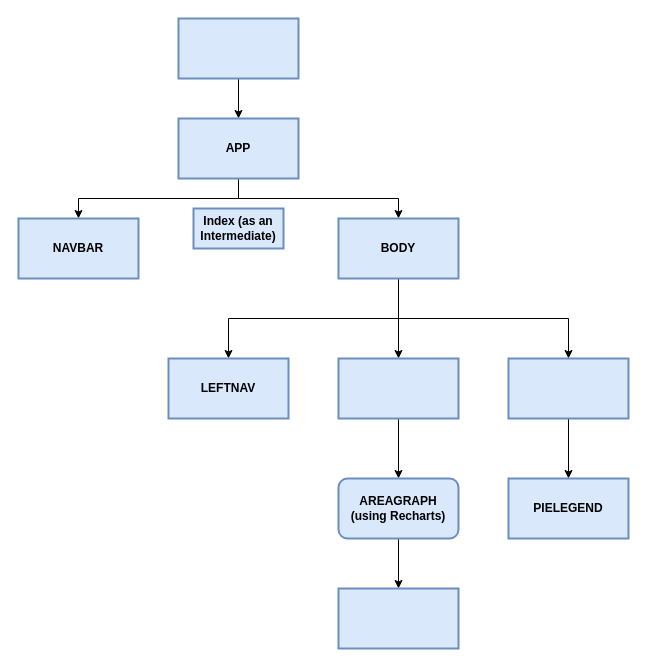
Some shapes in this 646 by 666 pixel diagram are drawn without their labels. The centre of each missing label's shape, as x and y in pixels:
"CENTERMAIN" belongs at point (398, 388).
"CUSTOMTOOLTIP" belongs at point (398, 618).
"INDEX" belongs at point (238, 48).
"RIGHTSTATS" belongs at point (568, 388).
